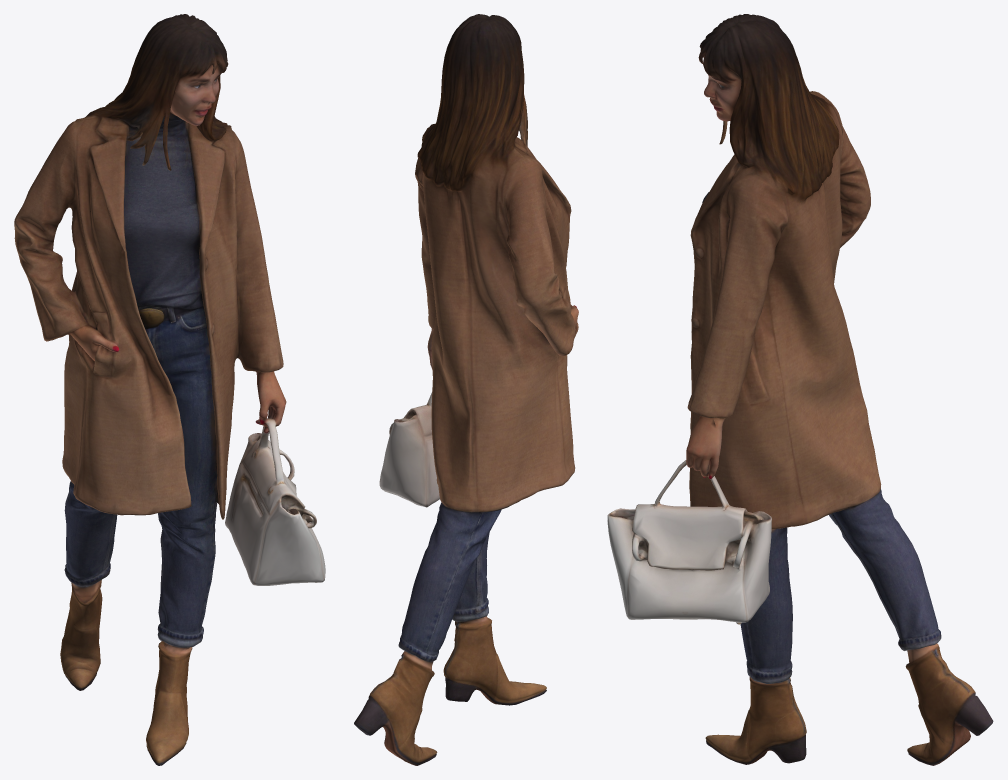
Rendered from woman.gltf.
3 renders of one model, left to right at view 1: azimuth 30°, elevation 25°; view 2: azimuth 150°, elevation 25°; view 3: azimuth 270°, elevation 25°, orthographic. The views are drawn at different scales.
Parts seen in each view (by area): view 1: Object_2; view 2: Object_2; view 3: Object_2.
Part boxes in pixels (box(x1,y1,x2,y2)): Object_2: box(14, 14, 325, 765); Object_2: box(354, 14, 578, 765); Object_2: box(607, 14, 993, 765).
Size of the model in its own units: 0.5923 by 1.74 by 0.8127.
1 material, 1 textured.
